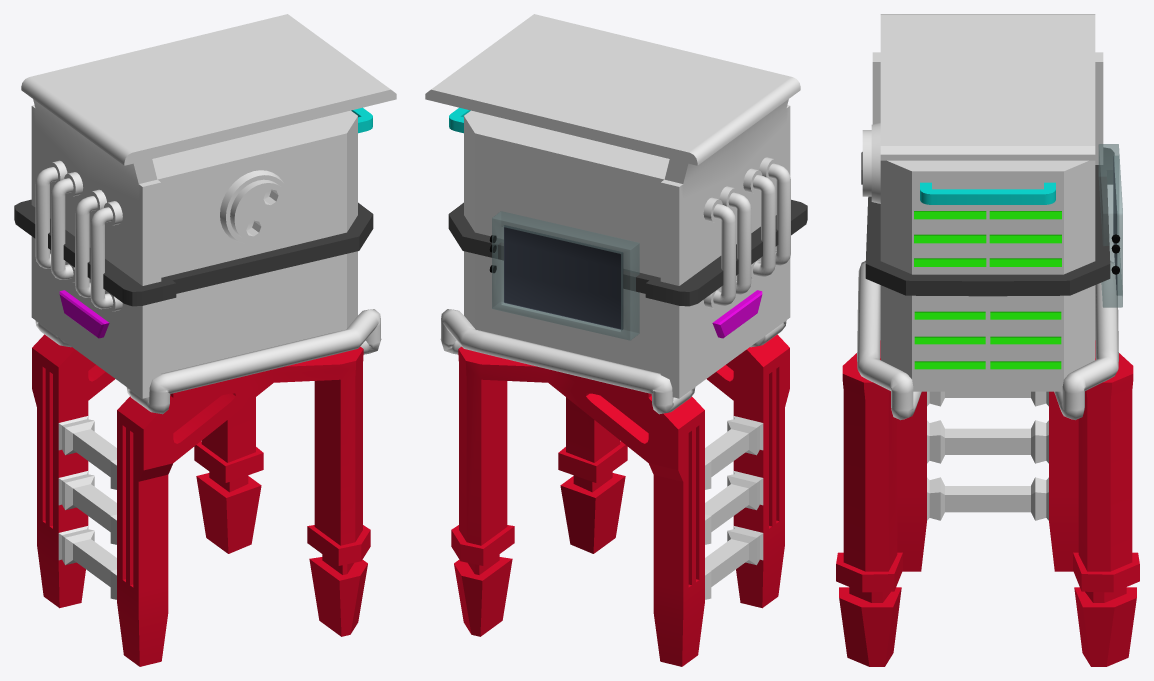
File: RealHive.fbx
3 views of the same model, side by side, from view 1: azimuth 30°, elevation 25°; view 2: azimuth 150°, elevation 25°; view 3: azimuth 270°, elevation 25° (orthographic). The views are drawn at different scales.
Visible parts, largest first — view 1: новый, Cube.013, Cylinder.023, BézierCurve.004, Cylinder.009; view 2: новый, Cube.013, Screen, Cylinder.023, BézierCurve.004; view 3: новый, Cube.013, BézierCurve.004, Screen, Cylinder.009.
Boxes of the visible parts, x1=… form: новый: x1=14, y1=14, x2=396, y2=398; Cube.013: x1=32, y1=334, x2=370, y2=666; Cylinder.023: x1=35, y1=160, x2=122, y2=311; BézierCurve.004: x1=35, y1=309, x2=381, y2=414; Cylinder.009: x1=220, y1=170, x2=290, y2=244; новый: x1=425, y1=14, x2=807, y2=398; Cube.013: x1=451, y1=334, x2=789, y2=666; Screen: x1=489, y1=211, x2=639, y2=340; Cylinder.023: x1=703, y1=157, x2=790, y2=308; BézierCurve.004: x1=440, y1=309, x2=786, y2=414; новый: x1=861, y1=14, x2=1114, y2=391; Cube.013: x1=836, y1=340, x2=1139, y2=666; BézierCurve.004: x1=857, y1=261, x2=1118, y2=420; Screen: x1=1098, y1=144, x2=1122, y2=307; Cylinder.009: x1=862, y1=122, x2=880, y2=203.
Bounding box in the file's own units: 615 × 1078 × 549.
